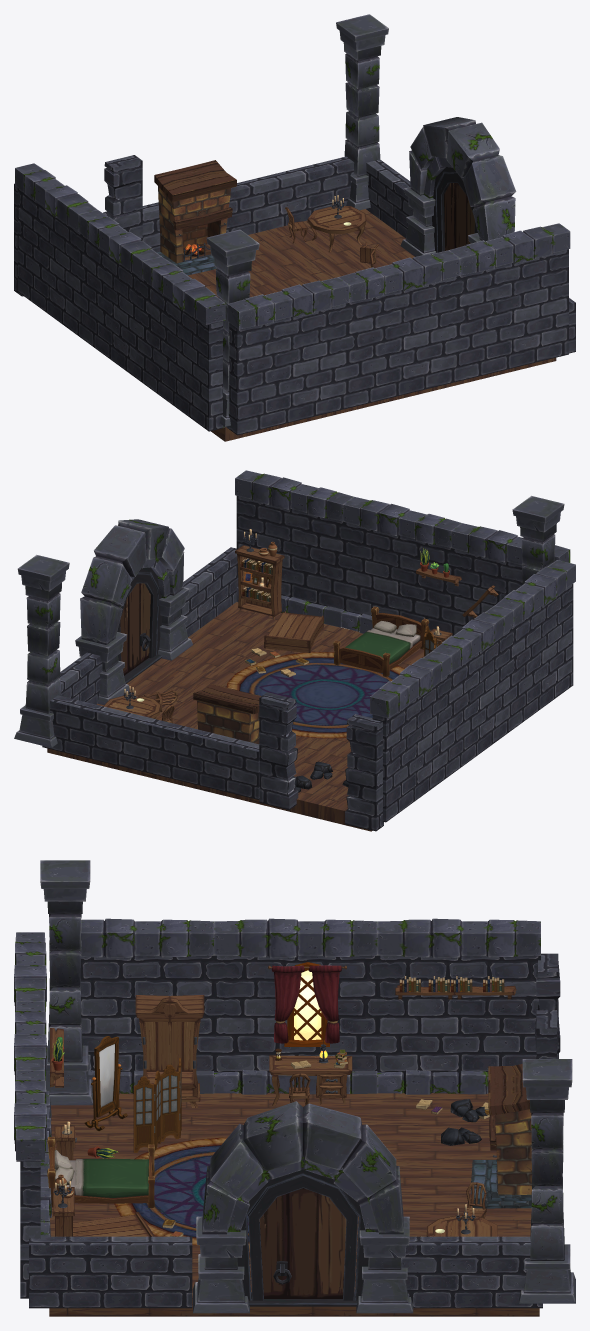
File: LyrielRoom.gltf
3 views of the same model, one above another, from view 1: azimuth 30°, elevation 25°; view 2: azimuth 150°, elevation 25°; view 3: azimuth 270°, elevation 25° (orthographic). The views are drawn at different scales.
Visible parts, largest first — view 1: LyrielRoom; view 2: LyrielRoom; view 3: LyrielRoom.
Boxes of the visible parts, bbox=[...] form: LyrielRoom: bbox=[14, 14, 575, 441]; LyrielRoom: bbox=[14, 470, 575, 831]; LyrielRoom: bbox=[14, 860, 575, 1316].
Size of the model in its own units: 13.6 by 6.68 by 13.75.
Materials: 18 (18 with a texture image).
